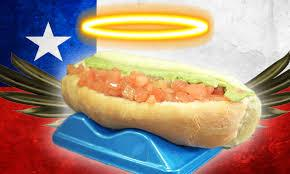Completos: (60, 47, 262, 154)
